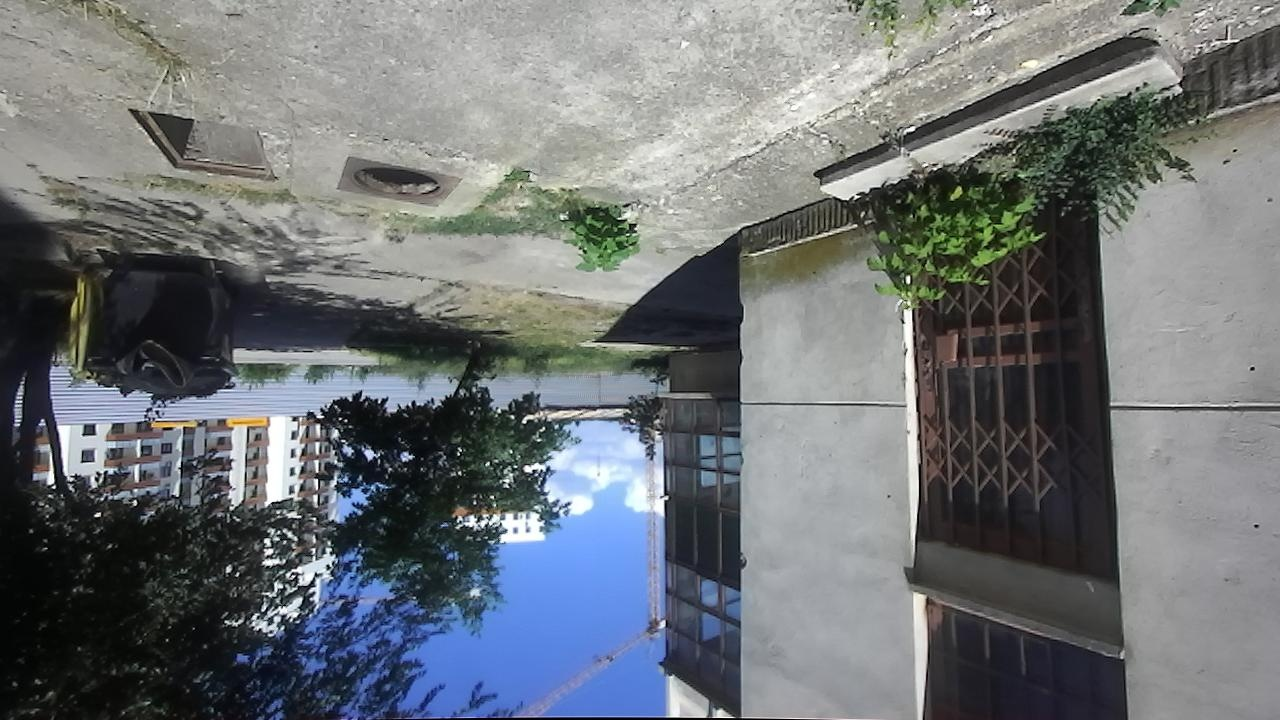drain: (119, 103, 276, 183), (346, 162, 450, 204)
